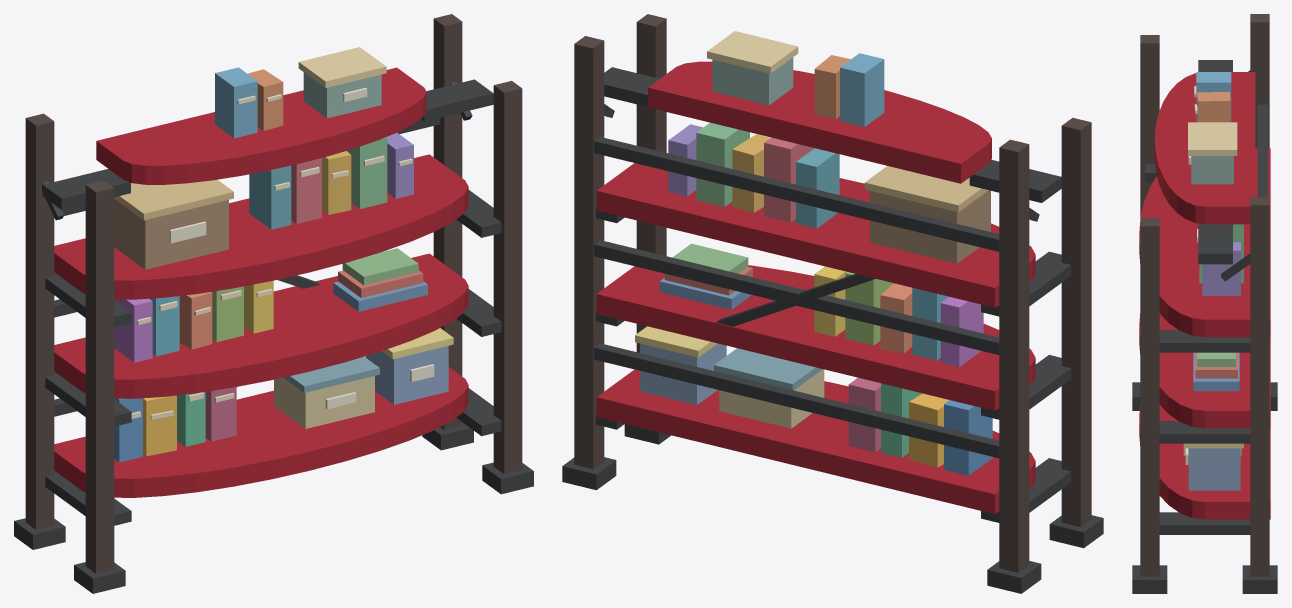
3 renders of one model, left to right at view 1: azimuth 30°, elevation 25°; view 2: azimuth 150°, elevation 25°; view 3: azimuth 270°, elevation 25°, orthographic. The views are drawn at different scales.
Visible parts, largest first — view 1: geometry_0_cube.001, geometry_0_cube.002, geometry_0_cube, geometry_0_cube.003, geometry_0_cube.005, geometry_0_cube.004, geometry_0_cube.012, geometry_0_cube.011, geometry_0_cube.053, geometry_0_cube.034, geometry_0_cube.037, geometry_0_cube.054 (+35 smaller); view 2: geometry_0_cube.001, geometry_0_cube.002, geometry_0_cube.003, geometry_0_cube, geometry_0_cube.004, geometry_0_cube.005, geometry_0_cube.011, geometry_0_cube.020, geometry_0_cube.018, geometry_0_cube.019, geometry_0_cube.053, geometry_0_cube.012 (+34 smaller); view 3: geometry_0_cube.003, geometry_0_cube.002, geometry_0_cube.011, geometry_0_cube.012, geometry_0_cube.001, geometry_0_cube, geometry_0_cube.005, geometry_0_cube.037, geometry_0_cube.004, geometry_0_cube.071, geometry_0_cube.015, geometry_0_cube.014 (+18 smaller).
Part boxes in pixels (bbox=[...]): geometry_0_cube.001: bbox=[54, 253, 468, 398]; geometry_0_cube.002: bbox=[54, 154, 468, 299]; geometry_0_cube: bbox=[54, 367, 468, 497]; geometry_0_cube.003: bbox=[96, 67, 426, 184]; geometry_0_cube.005: bbox=[85, 180, 114, 573]; geometry_0_cube.004: bbox=[25, 113, 54, 529]; geometry_0_cube.012: bbox=[493, 81, 522, 474]; geometry_0_cube.011: bbox=[433, 14, 462, 430]; geometry_0_cube.053: bbox=[114, 199, 228, 269]; geometry_0_cube.034: bbox=[274, 376, 374, 428]; geometry_0_cube.037: bbox=[365, 346, 448, 404]; geometry_0_cube.054: bbox=[114, 179, 233, 220]; geometry_0_cube.001: bbox=[596, 265, 1035, 410]; geometry_0_cube.002: bbox=[596, 163, 1035, 307]; geometry_0_cube.003: bbox=[648, 61, 991, 183]; geometry_0_cube: bbox=[596, 369, 1035, 514]; geometry_0_cube.004: bbox=[999, 139, 1029, 572]; geometry_0_cube.005: bbox=[1061, 117, 1091, 527]; geometry_0_cube.011: bbox=[574, 36, 604, 469]; geometry_0_cube.020: bbox=[594, 137, 999, 251]; geometry_0_cube.018: bbox=[594, 343, 999, 458]; geometry_0_cube.019: bbox=[594, 240, 999, 354]; geometry_0_cube.053: bbox=[870, 190, 990, 263]; geometry_0_cube.012: bbox=[636, 14, 666, 352]; geometry_0_cube.003: bbox=[1154, 72, 1255, 224]; geometry_0_cube.002: bbox=[1139, 148, 1270, 337]; geometry_0_cube.011: bbox=[1250, 197, 1269, 576]; geometry_0_cube.012: bbox=[1140, 218, 1159, 576]; geometry_0_cube.001: bbox=[1139, 313, 1270, 428]; geometry_0_cube: bbox=[1139, 404, 1270, 519]; geometry_0_cube.005: bbox=[1140, 35, 1159, 217]; geometry_0_cube.037: bbox=[1188, 448, 1240, 490]; geometry_0_cube.004: bbox=[1250, 14, 1269, 148]; geometry_0_cube.071: bbox=[1188, 122, 1237, 155]; geometry_0_cube.015: bbox=[1159, 330, 1250, 352]; geometry_0_cube.014: bbox=[1159, 421, 1250, 443].
Bounding box in the file's own units: 2.42 × 2.3 × 0.75.
